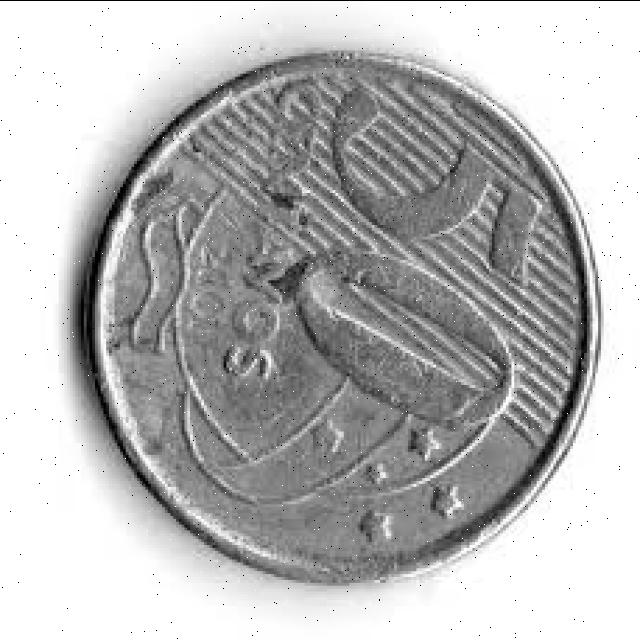50 cent: (78, 54, 610, 584)
